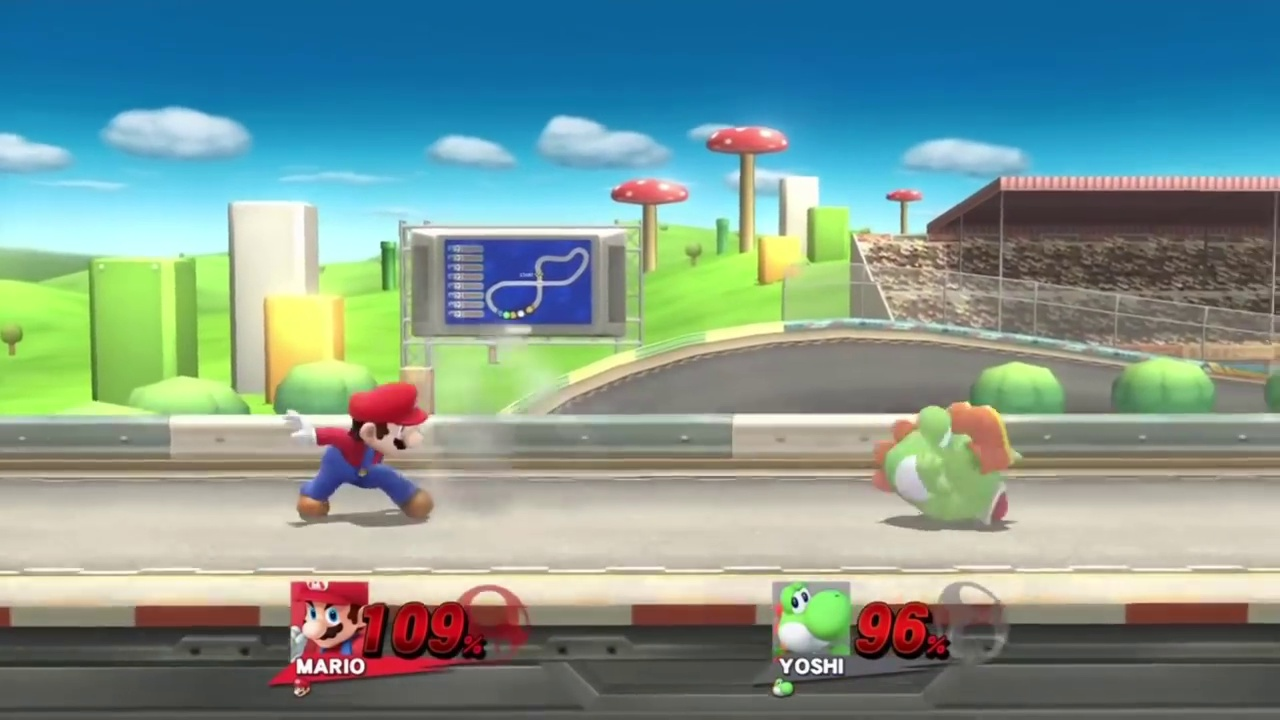Mario: (289, 385, 430, 521)
